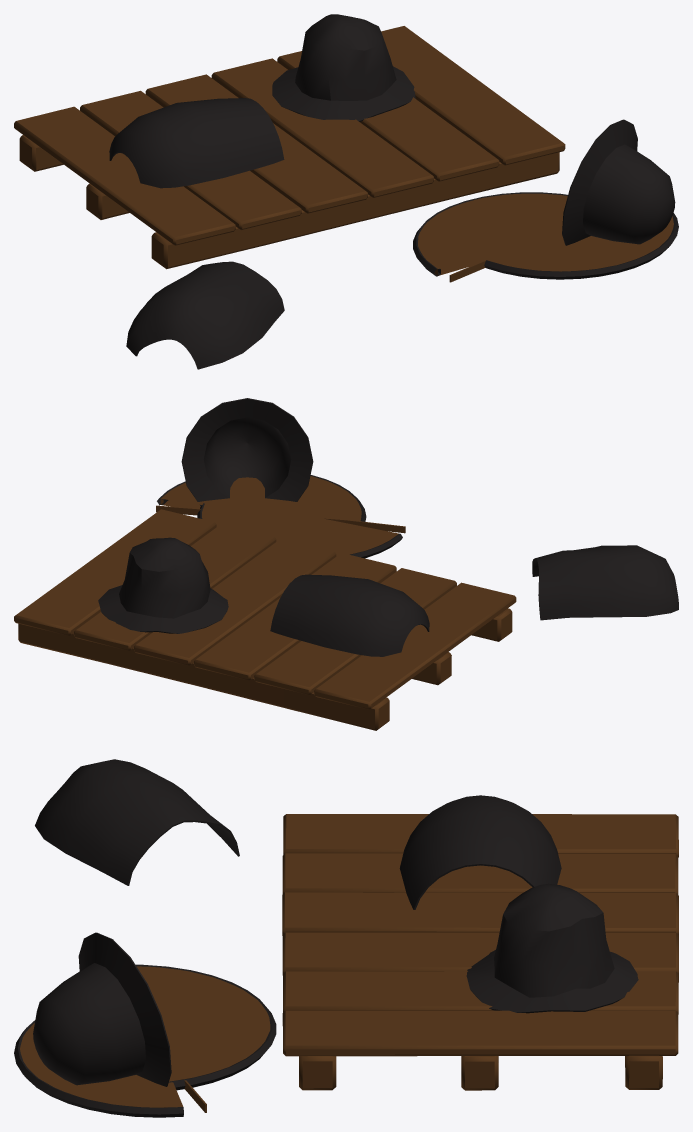
The model's file is ruestungsstapel_kaputt.glb.
3 renders of one model, top to bottom at view 1: azimuth 30°, elevation 25°; view 2: azimuth 150°, elevation 25°; view 3: azimuth 270°, elevation 25°, orthographic. The views are drawn at different scales.
Visible parts, largest first — view 1: ruestungsstapel_kaputt; view 2: ruestungsstapel_kaputt; view 3: ruestungsstapel_kaputt.
Boxes of the visible parts, x1,y1,x2,y2 form: ruestungsstapel_kaputt: [14, 14, 678, 369]; ruestungsstapel_kaputt: [14, 398, 678, 730]; ruestungsstapel_kaputt: [14, 759, 678, 1117].
Bounding box in the file's own units: 1.66 × 0.3742 × 1.43.
